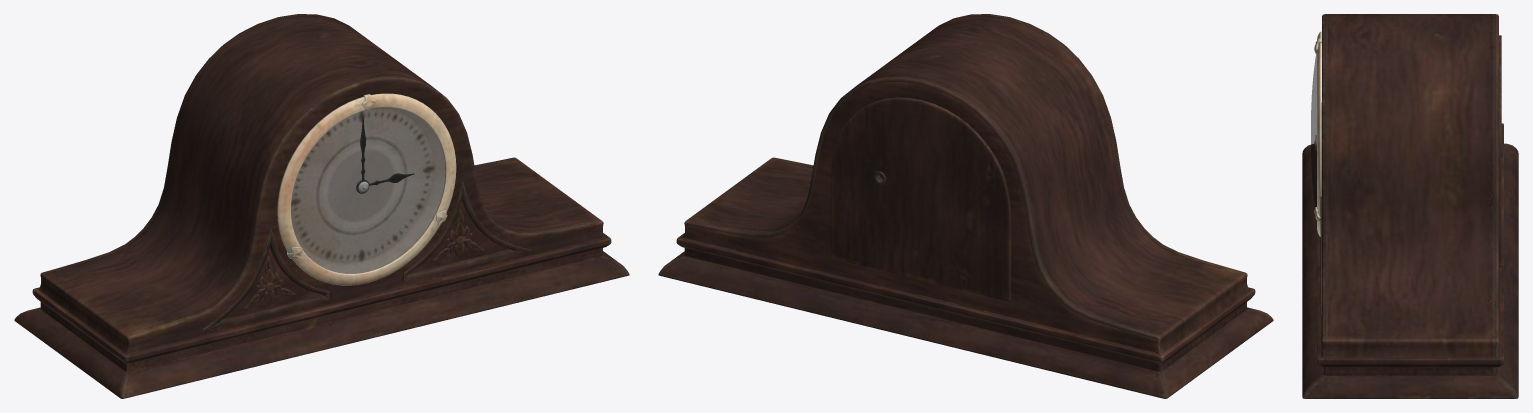
Rendered from mantel_clock_01_lite.gltf.
3 views of the same model, side by side, from view 1: azimuth 30°, elevation 25°; view 2: azimuth 150°, elevation 25°; view 3: azimuth 270°, elevation 25° (orthographic).
Visible parts, largest first — view 1: mantel_clock_01, mantel_clock_01_glass; view 2: mantel_clock_01; view 3: mantel_clock_01, mantel_clock_01_glass.
Part boxes in pixels (x1,y1,x2,y2): mantel_clock_01: (14, 14, 629, 398); mantel_clock_01_glass: (291, 107, 445, 273); mantel_clock_01: (658, 14, 1273, 398); mantel_clock_01: (1302, 14, 1518, 398); mantel_clock_01_glass: (1311, 53, 1316, 207).
Size of the model in its own units: 0.3423 by 0.1605 by 0.1262.
Materials: 2 (2 with a texture image).
